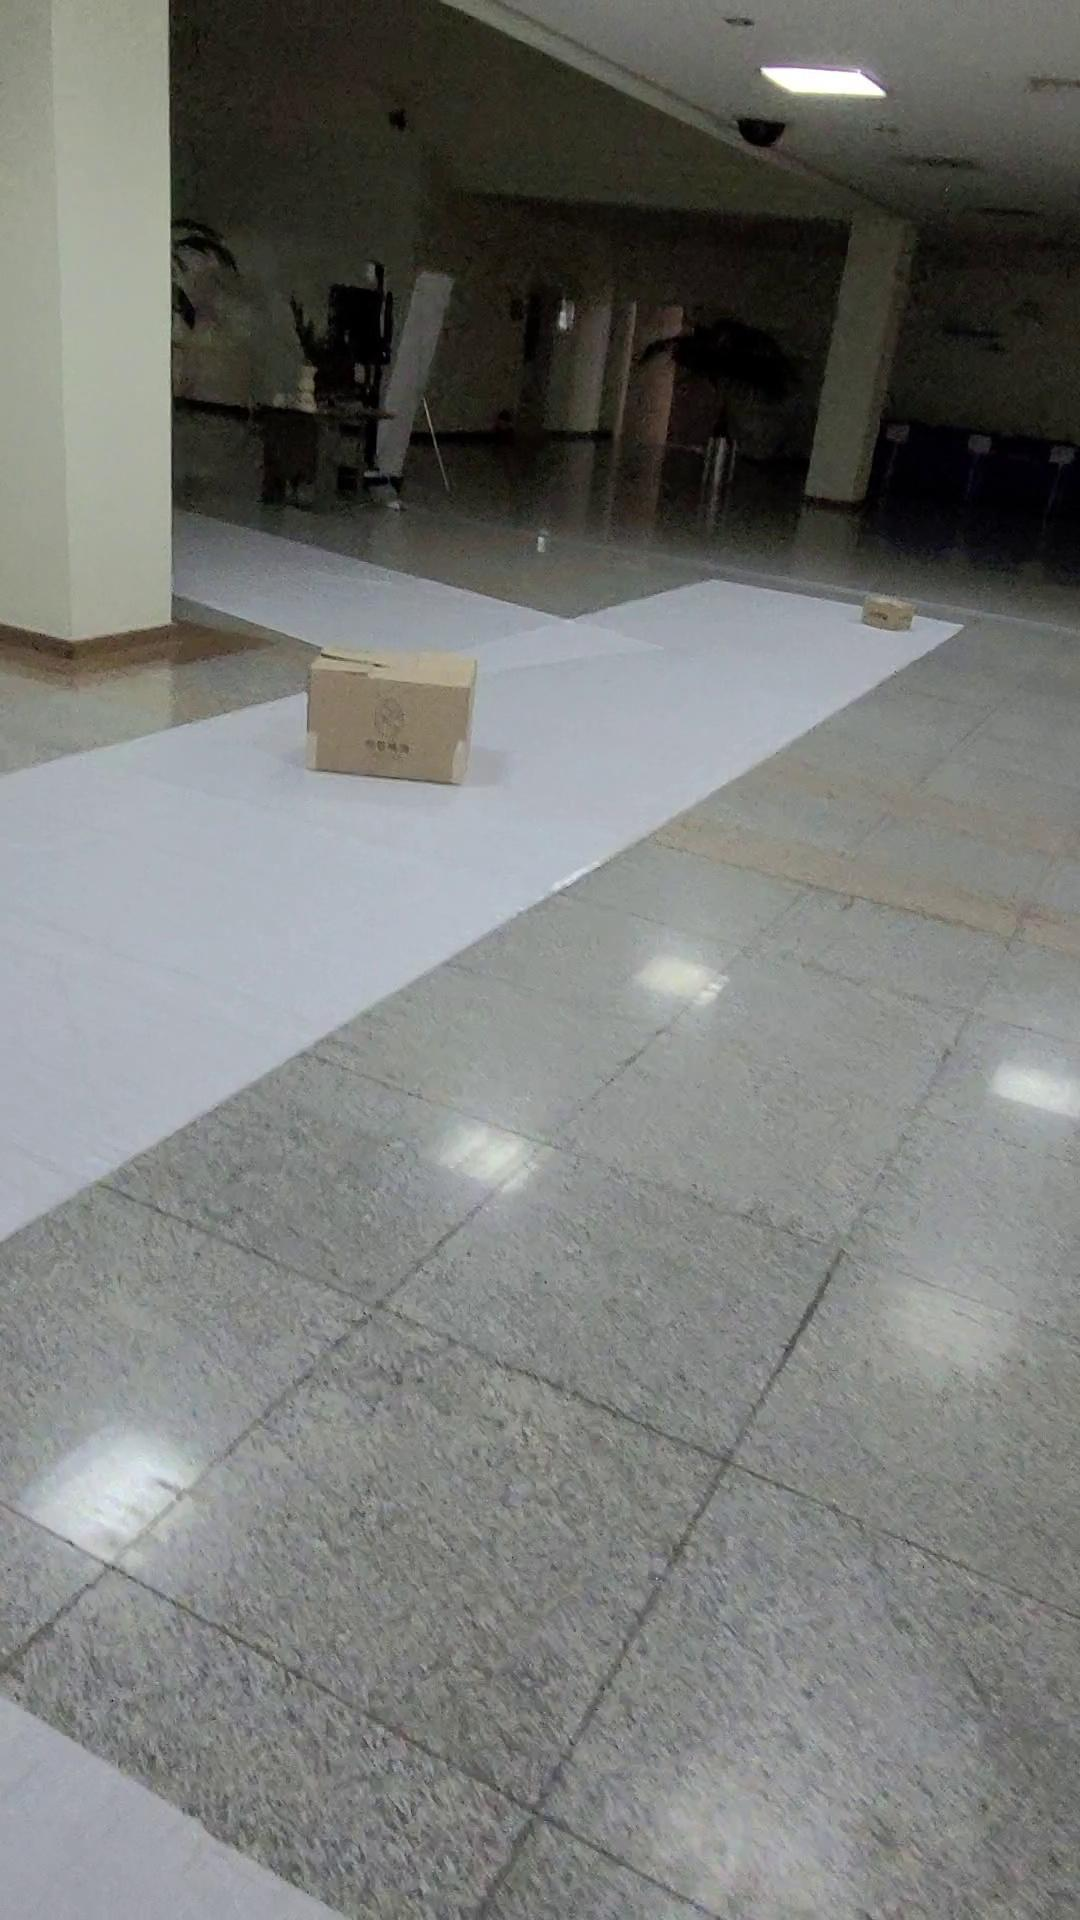Box: (301, 636, 485, 800), (861, 588, 915, 633)
